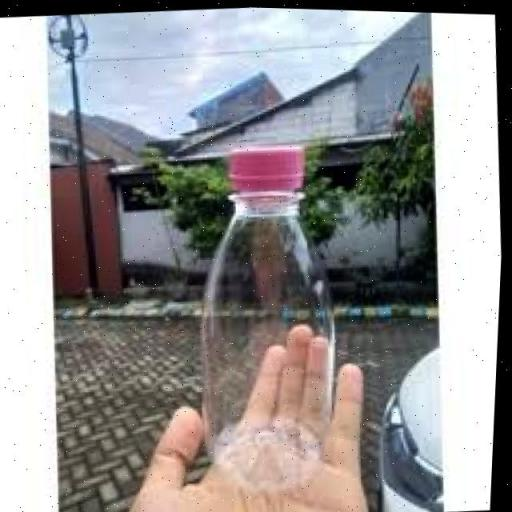plastic: (182, 142, 358, 498)
